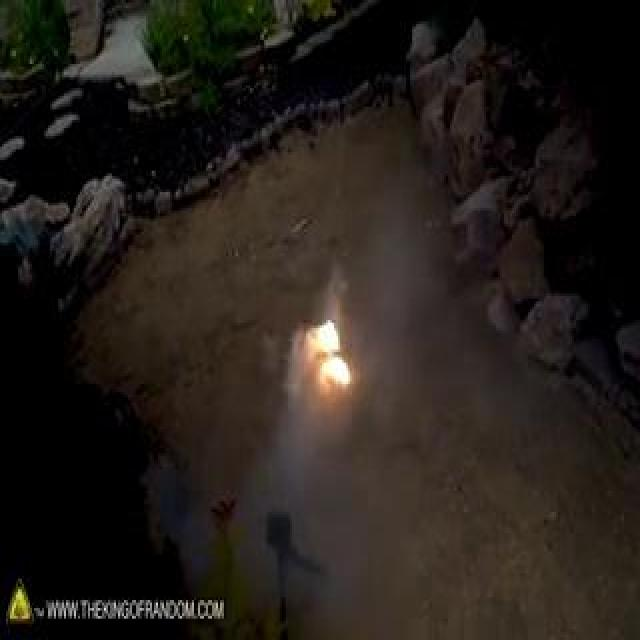Fire: (44, 98, 332, 334)
